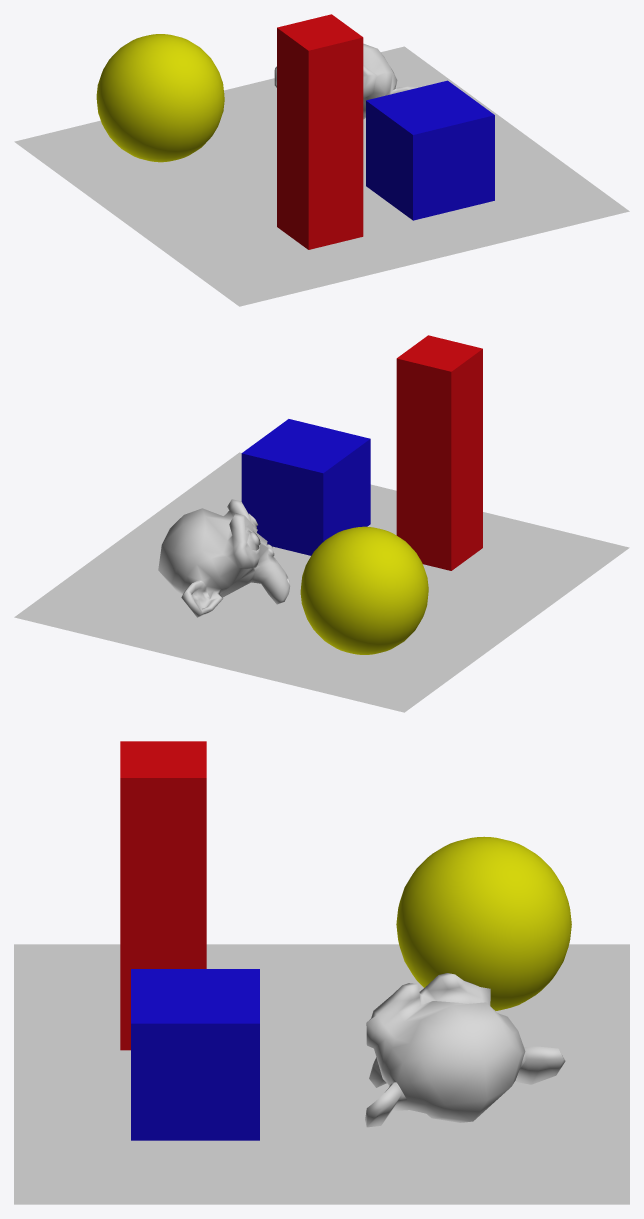
The picture shows the model from 3 angles, top to bottom: view 1: azimuth 30°, elevation 25°; view 2: azimuth 150°, elevation 25°; view 3: azimuth 270°, elevation 25°; orthographic projection. The views are drawn at different scales.
Parts seen in each view (by area): view 1: Plane, Cube3, Cube_001, Sphere_001, Suzanne; view 2: Plane, Cube3, Cube_001, Sphere_001, Suzanne; view 3: Plane, Sphere_001, Cube_001, Cube3, Suzanne.
Boxes of the visible parts, left/top/right/bottom form: Plane: left=14, top=46, right=629, bottom=306; Cube3: left=277, top=14, right=363, bottom=249; Cube_001: left=366, top=80, right=494, bottom=220; Sphere_001: left=96, top=34, right=224, bottom=162; Suzanne: left=274, top=43, right=417, bottom=119; Plane: left=14, top=452, right=629, bottom=712; Cube3: left=396, top=335, right=482, bottom=570; Cube_001: left=241, top=419, right=370, bottom=555; Sphere_001: left=300, top=526, right=428, bottom=654; Suzanne: left=158, top=499, right=290, bottom=617; Plane: left=14, top=944, right=629, bottom=1204; Sphere_001: left=396, top=836, right=571, bottom=1010; Cube_001: left=131, top=969, right=259, bottom=1140; Cube3: left=120, top=741, right=206, bottom=1050; Suzanne: left=365, top=973, right=565, bottom=1127.
Bounding box in the file's own units: 7.16 × 7.16 × 3.52.
